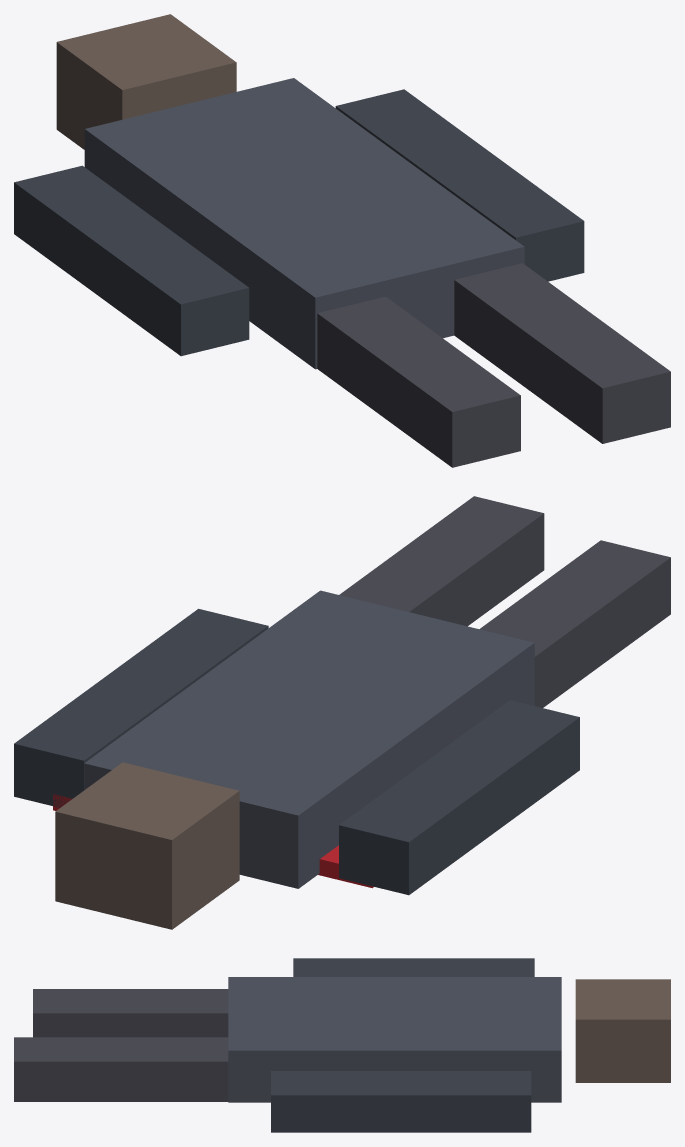
Rendered from prone-humanoid-prototype.glb.
3 renders of one model, top to bottom at view 1: azimuth 30°, elevation 25°; view 2: azimuth 150°, elevation 25°; view 3: azimuth 270°, elevation 25°, orthographic. The views are drawn at different scales.
Parts seen in each view (by area): view 1: prone-torso, left-arm, right-leg, left-leg, right-arm, fallen-head; view 2: prone-torso, left-arm, fallen-head, right-arm, left-leg, right-leg, blood-shadow; view 3: prone-torso, right-arm, right-leg, fallen-head, left-leg, left-arm.
Part boxes in pixels (<box>): prone-torso: <box>84,78,524,369</box>; left-arm: <box>14,165,249,356</box>; right-leg: <box>454,263,670,443</box>; left-leg: <box>317,296,520,467</box>; right-arm: <box>335,89,584,281</box>; fallen-head: <box>56,14,236,149</box>; prone-torso: <box>84,590,534,888</box>; left-arm: <box>339,700,579,895</box>; fallen-head: <box>55,762,239,929</box>; right-arm: <box>14,608,268,807</box>; left-leg: <box>479,540,670,707</box>; right-leg: <box>339,496,544,626</box>; blood-shadow: <box>53,794,373,888</box>; prone-torso: <box>228,977,561,1102</box>; right-arm: <box>271,1071,531,1132</box>; right-leg: <box>14,1037,228,1101</box>; fallen-head: <box>575,979,670,1082</box>; left-leg: <box>33,989,228,1037</box>; left-arm: <box>293,958,534,976</box>.
Bounding box in the file's own units: 1.02 × 0.235 × 2.07.
